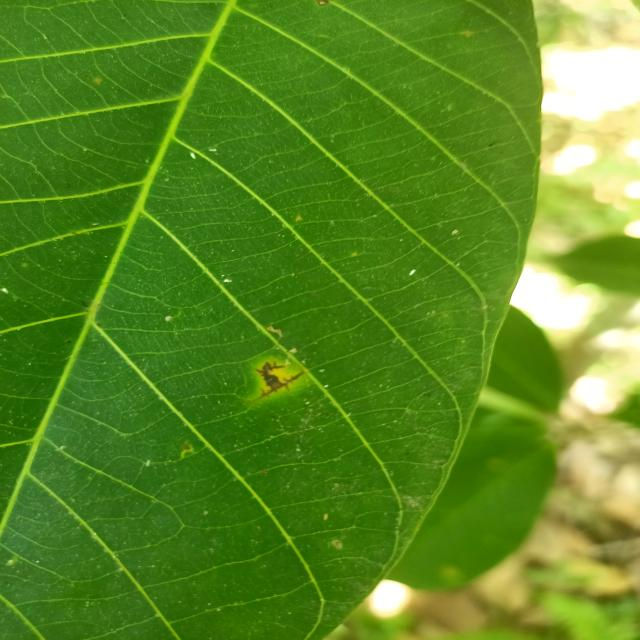Colletotrichum: (317, 0, 328, 6)
Corynespora: (246, 362, 304, 404)
